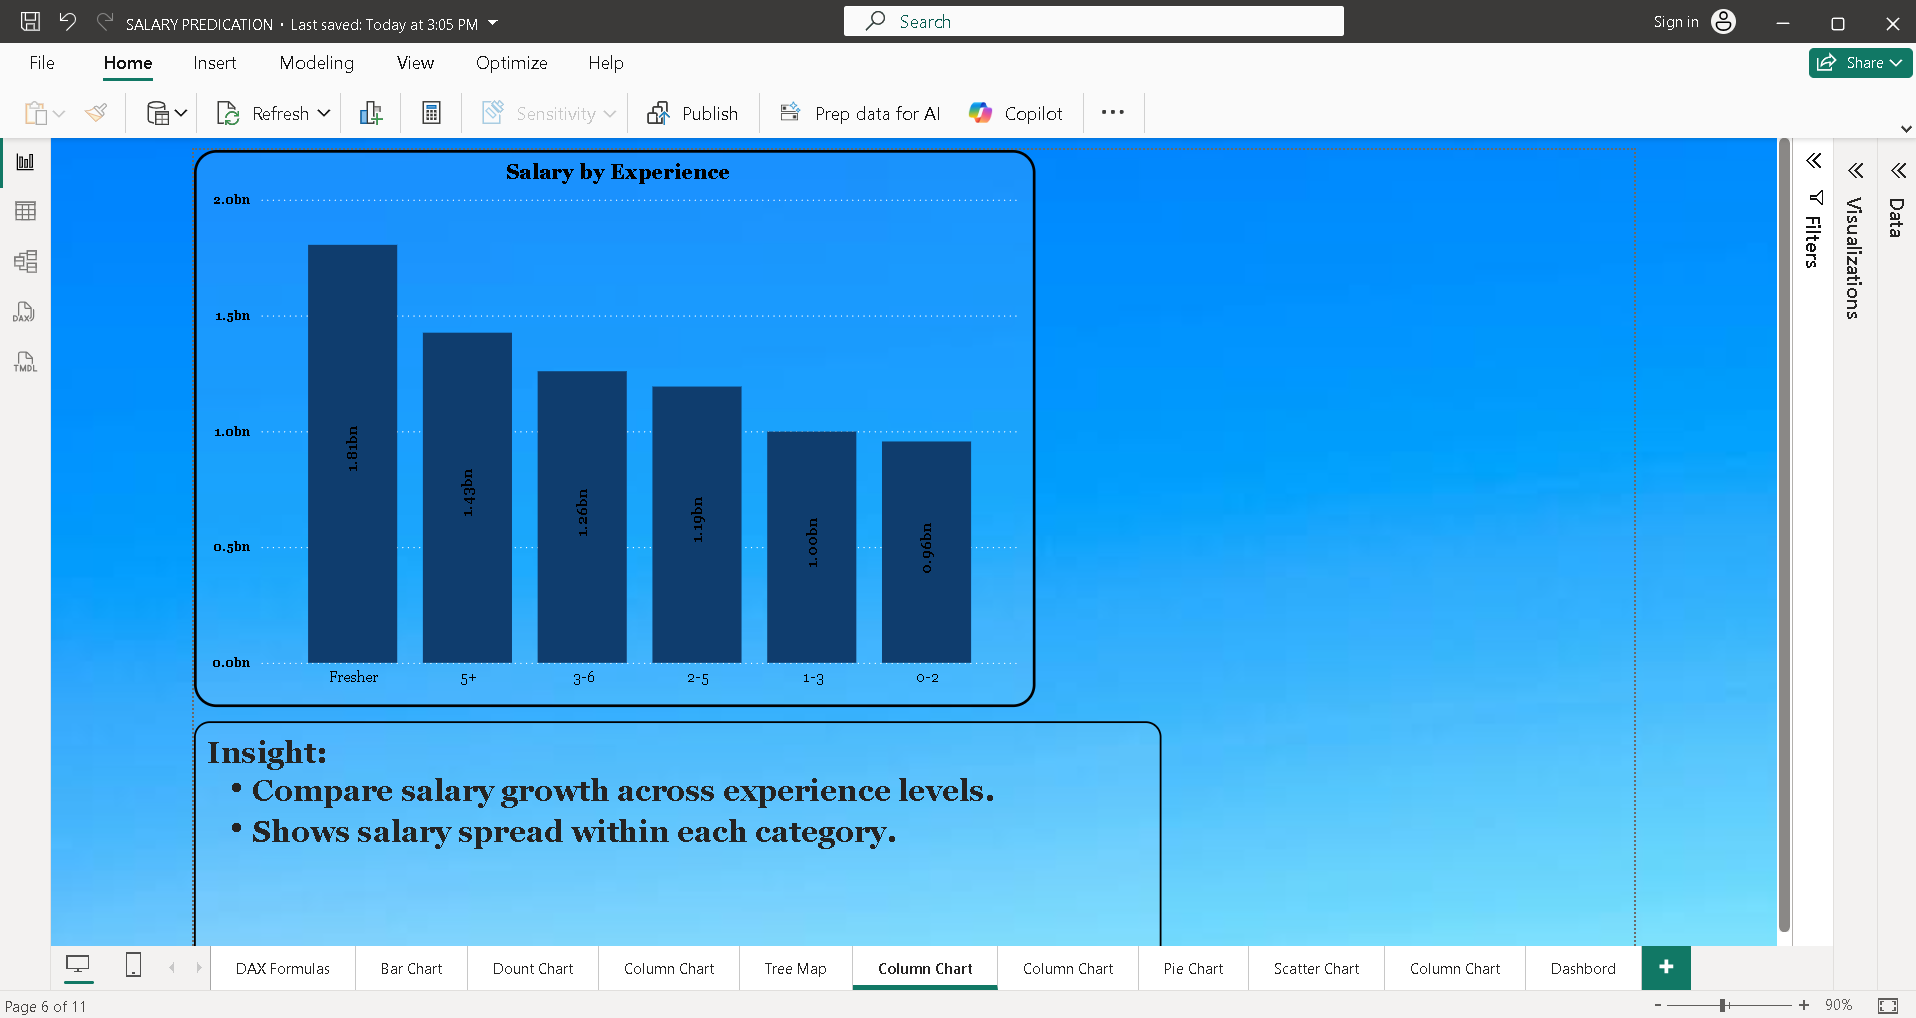

Layout of this report page (visuals, bound fields, positions):
{"tool":"powerbi","page":{"name":"Column Chart","canvas":[1280,720],"ordinal":5},"visuals":[{"type":"clusteredColumnChart","title":"Salary by Experience","fields":{"Category":["clean_job_market_salary_fixed.Experience"],"Y":["Sum(clean_job_market_salary_fixed.Salary)"]},"box":[0,0,748.4,495.2],"z":0},{"type":"textbox","box":[0,507.5,859.7,212.8],"z":1000}]}

Visuals, with their boxes on the page's 1280x720 design canvas (x1, y1, x2, y2). These are canvas units, not pixel positions in the 1916x1018 screenshot, which may show the page scaled, cropped or inside an application window:
"Salary by Experience" clusteredColumnChart: bbox=[0, 0, 748, 495]
textbox: bbox=[0, 508, 860, 720]
